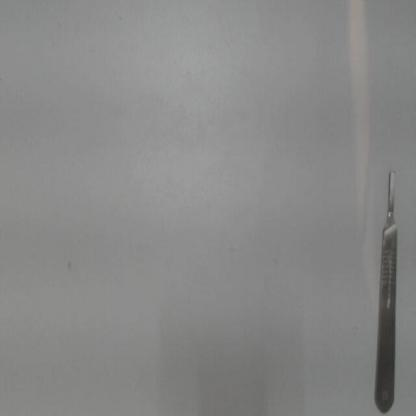No.4 BP Handle: (373, 166, 401, 414)
